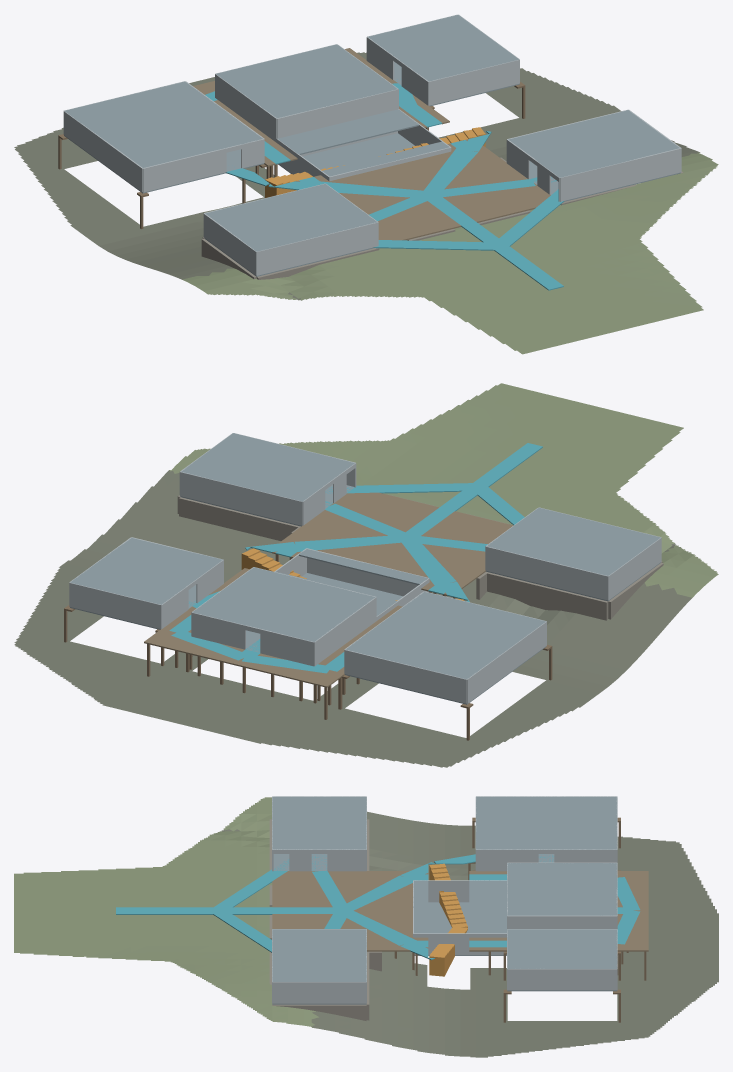
Rendered from deck-terrain.glb.
3 renders of one model, top to bottom at view 1: azimuth 30°, elevation 25°; view 2: azimuth 150°, elevation 25°; view 3: azimuth 270°, elevation 25°, orthographic. The views are drawn at different scales.
Visible parts, largest first — view 1: Saved editor macroterrain WLD-06, Ceiling cap boathouse, Ceiling cap fish, Ceiling cap cottage-a, Ceiling cap cottage-b, Ceiling cap net, Wall cottage-a S, Wall cottage-b S, Wall fish S, Wall net S, Wall boathouse S, Wall boathouse W (+24 smaller); view 2: Saved editor macroterrain WLD-06, Ceiling cap boathouse, Ceiling cap fish, Ceiling cap cottage-b, Ceiling cap cottage-a, Ceiling cap net, Wall cottage-a N, Wall boathouse N, Wall cottage-b N, Wall net N, Wall boathouse W, Wall undercroft S (+16 smaller); view 3: Saved editor macroterrain WLD-06, Ceiling cap boathouse, Ceiling cap fish, Ceiling cap cottage-a, Ceiling cap cottage-b, Ceiling cap net, Wall net E, Wall cottage-b E, Wall fish E, Wall boathouse E.001, Wall undercroft E, Ceiling cap undercroft (+21 smaller).
Boxes of the visible parts, x1=… form: Saved editor macroterrain WLD-06: x1=14, y1=52, x2=718, y2=354; Ceiling cap boathouse: x1=64, y1=81, x2=263, y2=167; Ceiling cap fish: x1=216, y1=44, x2=397, y2=118; Ceiling cap cottage-a: x1=205, y1=184, x2=376, y2=251; Ceiling cap cottage-b: x1=508, y1=110, x2=679, y2=177; Ceiling cap net: x1=368, y1=15, x2=518, y2=81; Wall cottage-a S: x1=256, y1=222, x2=378, y2=275; Wall cottage-b S: x1=560, y1=148, x2=681, y2=201; Wall fish S: x1=277, y1=89, x2=398, y2=138; Wall net S: x1=428, y1=59, x2=519, y2=105; Wall boathouse S: x1=143, y1=148, x2=226, y2=192; Wall boathouse W: x1=63, y1=111, x2=142, y2=192; Saved editor macroterrain WLD-06: x1=14, y1=383, x2=718, y2=767; Ceiling cap boathouse: x1=345, y1=591, x2=545, y2=678; Ceiling cap fish: x1=192, y1=567, x2=375, y2=641; Ceiling cap cottage-b: x1=181, y1=433, x2=354, y2=501; Ceiling cap cottage-a: x1=486, y1=507, x2=660, y2=575; Ceiling cap net: x1=70, y1=538, x2=222, y2=604; Wall cottage-a N: x1=485, y1=546, x2=608, y2=600; Wall boathouse N: x1=344, y1=649, x2=466, y2=703; Wall cottage-b N: x1=180, y1=471, x2=302, y2=525; Wall net N: x1=69, y1=582, x2=161, y2=628; Wall boathouse W: x1=467, y1=621, x2=546, y2=703; Wall undercroft S: x1=307, y1=548, x2=428, y2=596; Saved editor macroterrain WLD-06: x1=14, y1=797, x2=718, y2=1057; Ceiling cap boathouse: x1=476, y1=796, x2=617, y2=849; Ceiling cap fish: x1=507, y1=863, x2=617, y2=915; Ceiling cap cottage-a: x1=272, y1=796, x2=366, y2=849; Ceiling cap cottage-b: x1=272, y1=929, x2=366, y2=981; Ceiling cap net: x1=507, y1=929, x2=617, y2=968; Wall net E: x1=507, y1=968, x2=617, y2=990; Wall cottage-b E: x1=272, y1=982, x2=366, y2=1003; Wall fish E: x1=507, y1=915, x2=617, y2=928; Wall boathouse E.001: x1=476, y1=849, x2=538, y2=871; Wall undercroft E: x1=413, y1=933, x2=506, y2=955; Ceiling cap undercroft: x1=469, y1=880, x2=506, y2=906.
Size of the model in its own units: 70 by 7.86 by 90.
